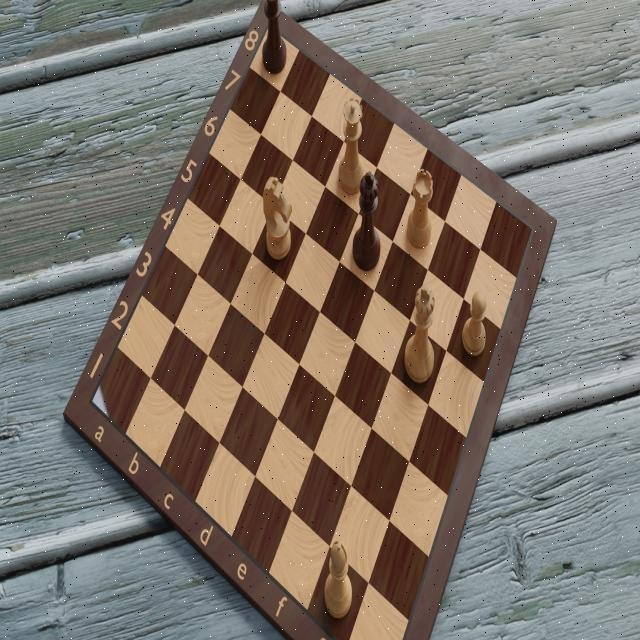black-king: (351, 171, 384, 276)
black-queen: (260, 0, 290, 80)
white-bishop: (323, 534, 357, 622)
white-king: (403, 282, 439, 393)
white-knight: (262, 174, 296, 265)
white-pawn: (460, 286, 488, 359)
white-queen: (335, 95, 365, 196)
white-rook: (402, 166, 435, 252)
